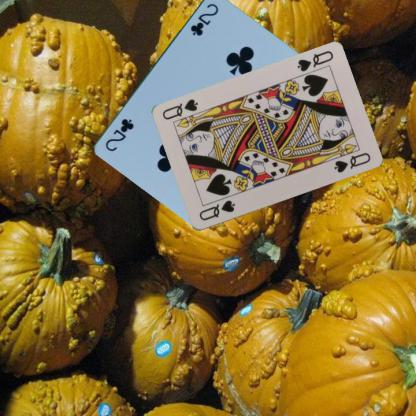2c: (188, 0, 219, 37)
Qs: (294, 48, 335, 73), (196, 198, 236, 222)
